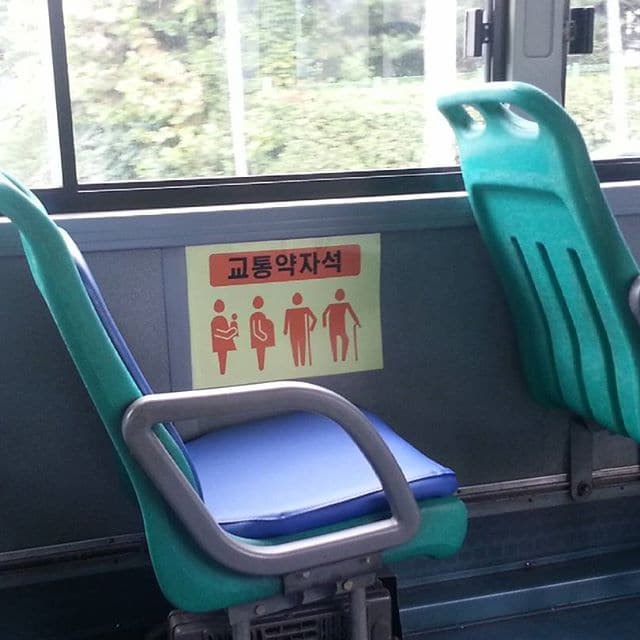seat: (6, 160, 465, 590)
